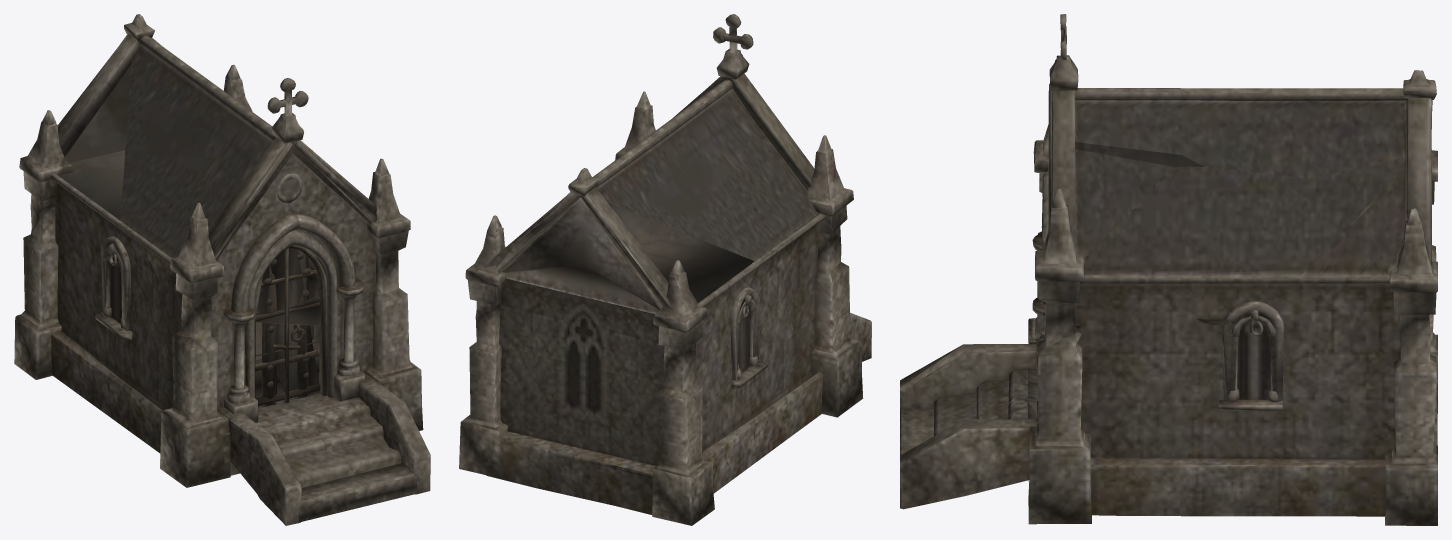
File: h_crypt.glb
3 views of the same model, side by side, from view 1: azimuth 30°, elevation 25°; view 2: azimuth 150°, elevation 25°; view 3: azimuth 270°, elevation 25° (orthographic). The views are drawn at different scales.
Parts seen in each view (by area): view 1: h_crypt; view 2: h_crypt; view 3: h_crypt.
Boxes of the visible parts, x1,y1,x2,y2 form: h_crypt: (14,14,430,525); h_crypt: (459,14,871,525); h_crypt: (900,14,1437,525).
Size of the model in its own units: 4.84 by 7.41 by 8.
1 material, 1 textured.
